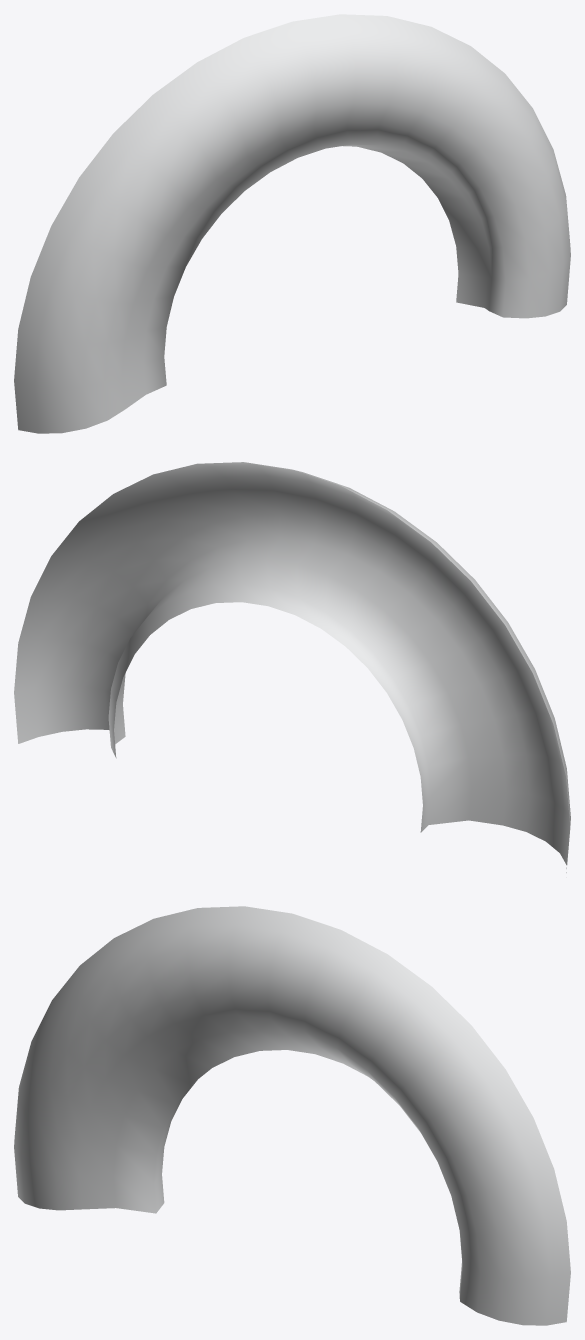
File: arcoCinza.fbx
3 renders of one model, top to bottom at view 1: azimuth 30°, elevation 25°; view 2: azimuth 150°, elevation 25°; view 3: azimuth 330°, elevation 25°, orthographic.
Visible parts, largest first — view 1: cinza; view 2: cinza; view 3: cinza.
Boxes of the visible parts, x1,y1,x2,y2 form: cinza: [14, 14, 570, 433]; cinza: [14, 462, 570, 872]; cinza: [14, 906, 570, 1325].
Bounding box in the file's own units: 6.08 × 3.57 × 0.5824.
